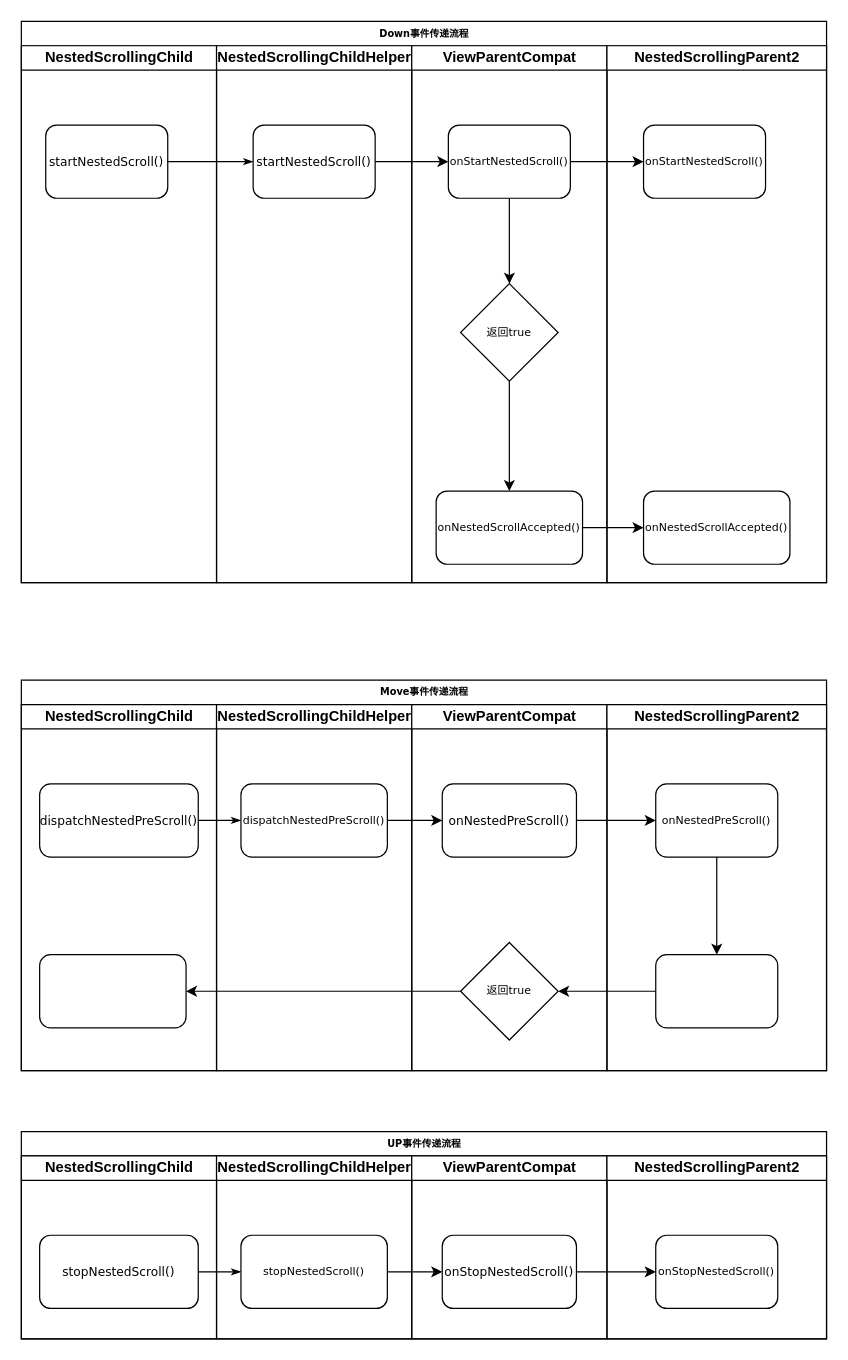
Some shapes in this 848 by 1360 pixel diagram are drawn without their labels. The centre of each missing label's shape, as x and y in pixels:
"dy减去parent已消费部分" belongs at [112,990].
"parent有消费" belongs at [716,990].
